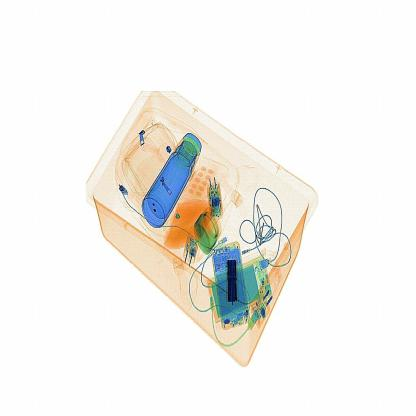scissors: (223, 244, 247, 310)
